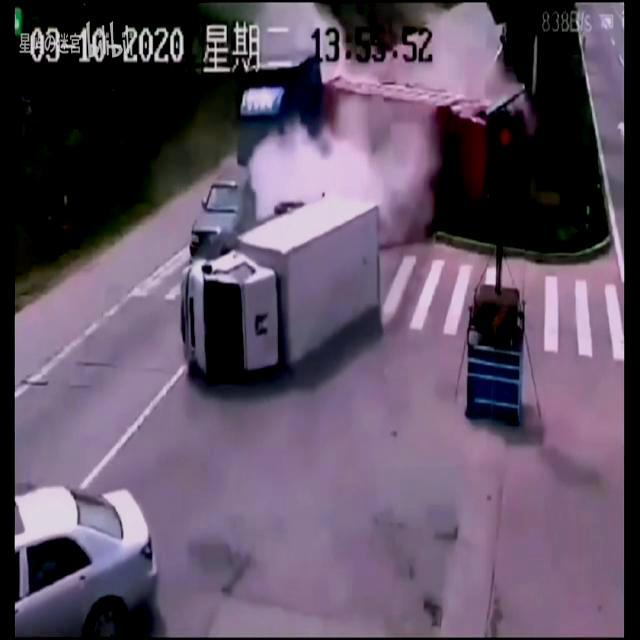accident: (178, 30, 534, 388)
